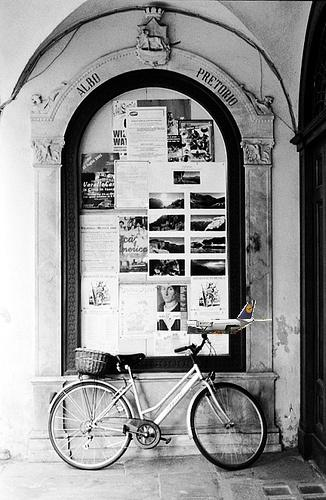tampered: (187, 301, 272, 334)
